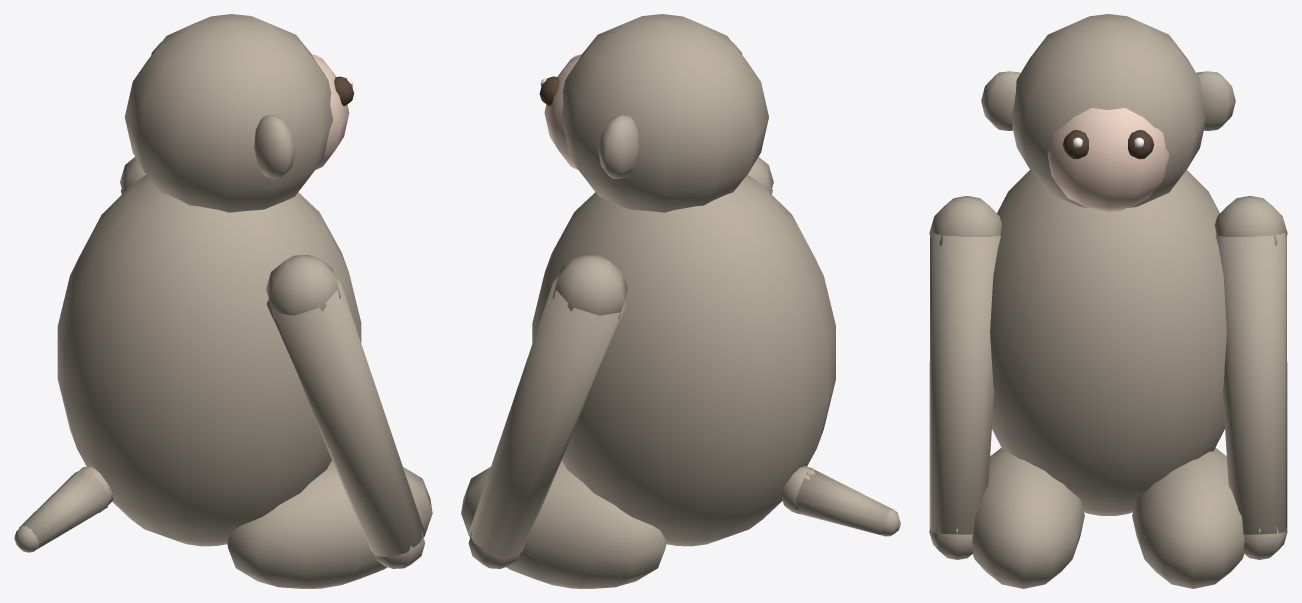
The model's file is formosan-rock-macaque.glb.
The picture shows the model from 3 angles, left to right: view 1: azimuth 30°, elevation 25°; view 2: azimuth 150°, elevation 25°; view 3: azimuth 270°, elevation 25°; orthographic projection. The views are drawn at different scales.
Parts seen in each view (by area): view 1: e.008, e, e.015; view 2: e.008, e, e.015; view 3: e.008, e.
Part boxes in pixels (left/top/right/bottom): e.008: left=57, top=157, right=432, bottom=588; e: left=124, top=14, right=354, bottom=212; e.015: left=14, top=466, right=113, bottom=552; e.008: left=461, top=157, right=835, bottom=588; e: left=539, top=14, right=768, bottom=212; e.015: left=780, top=466, right=900, bottom=536; e.008: left=929, top=170, right=1287, bottom=588; e: left=981, top=14, right=1235, bottom=211.
Bounding box in the file's own units: 0.9033 × 1.22 × 0.76.
